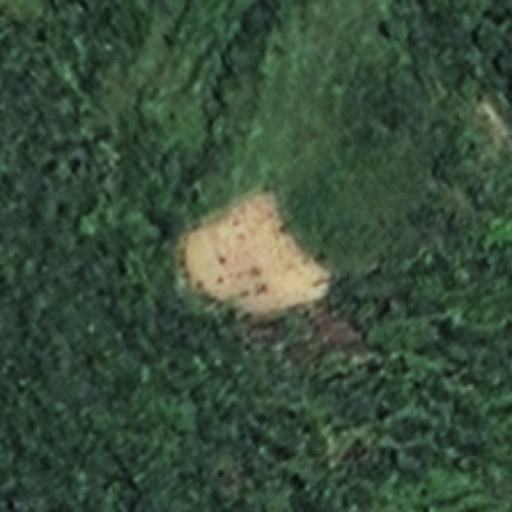landslide: (182, 184, 332, 314)
